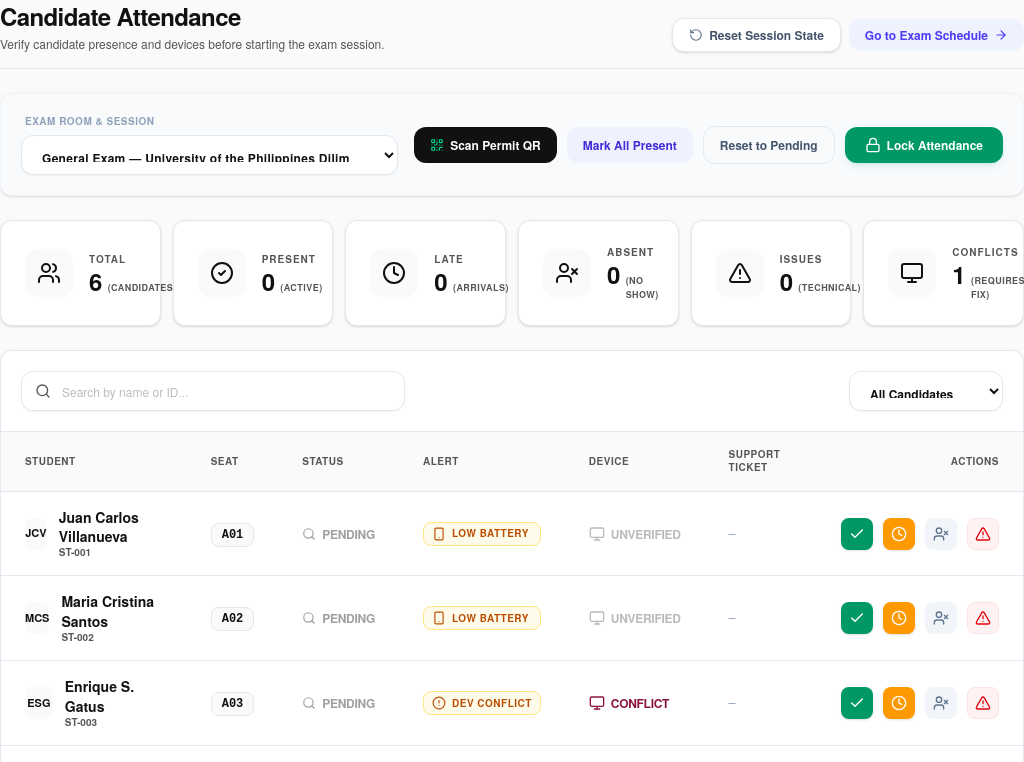
it: ProctorAttendance — QR scan › marks a candidate Late when scanned after the grace period
Click the button "Scan Permit QR" at (486, 144), box [414, 126, 557, 162]
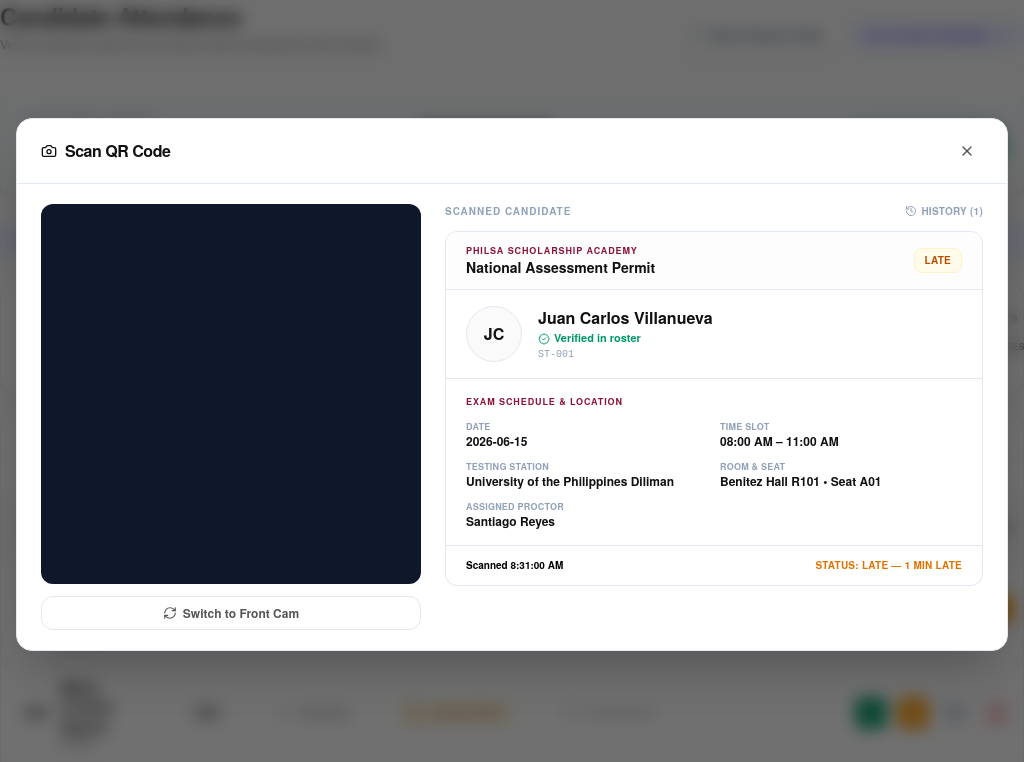
Now the text "Late" is shown, box [277, 600, 327, 618]
